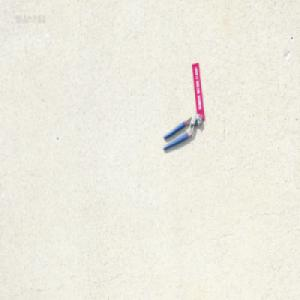Label: (191, 60, 204, 119)
Pliers: (162, 111, 202, 151)
